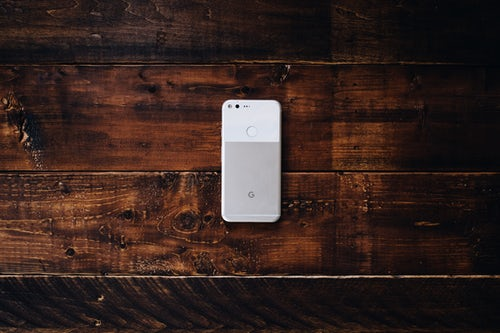phone: (220, 97, 284, 227)
